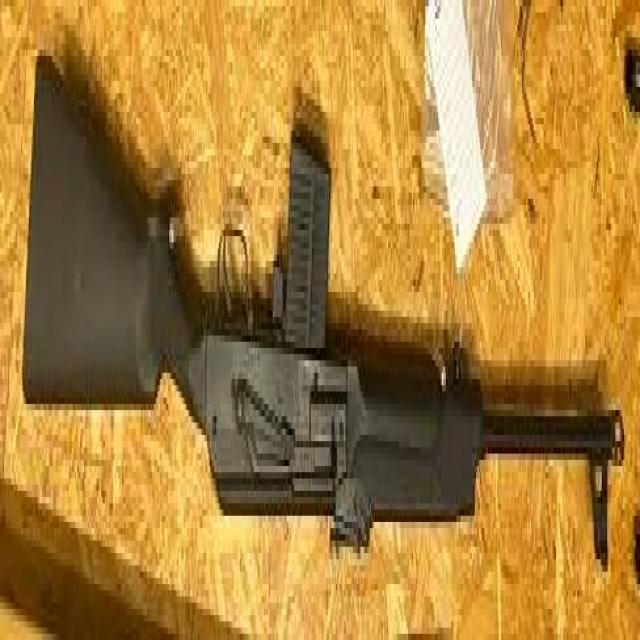weapon: (23, 55, 626, 574)
